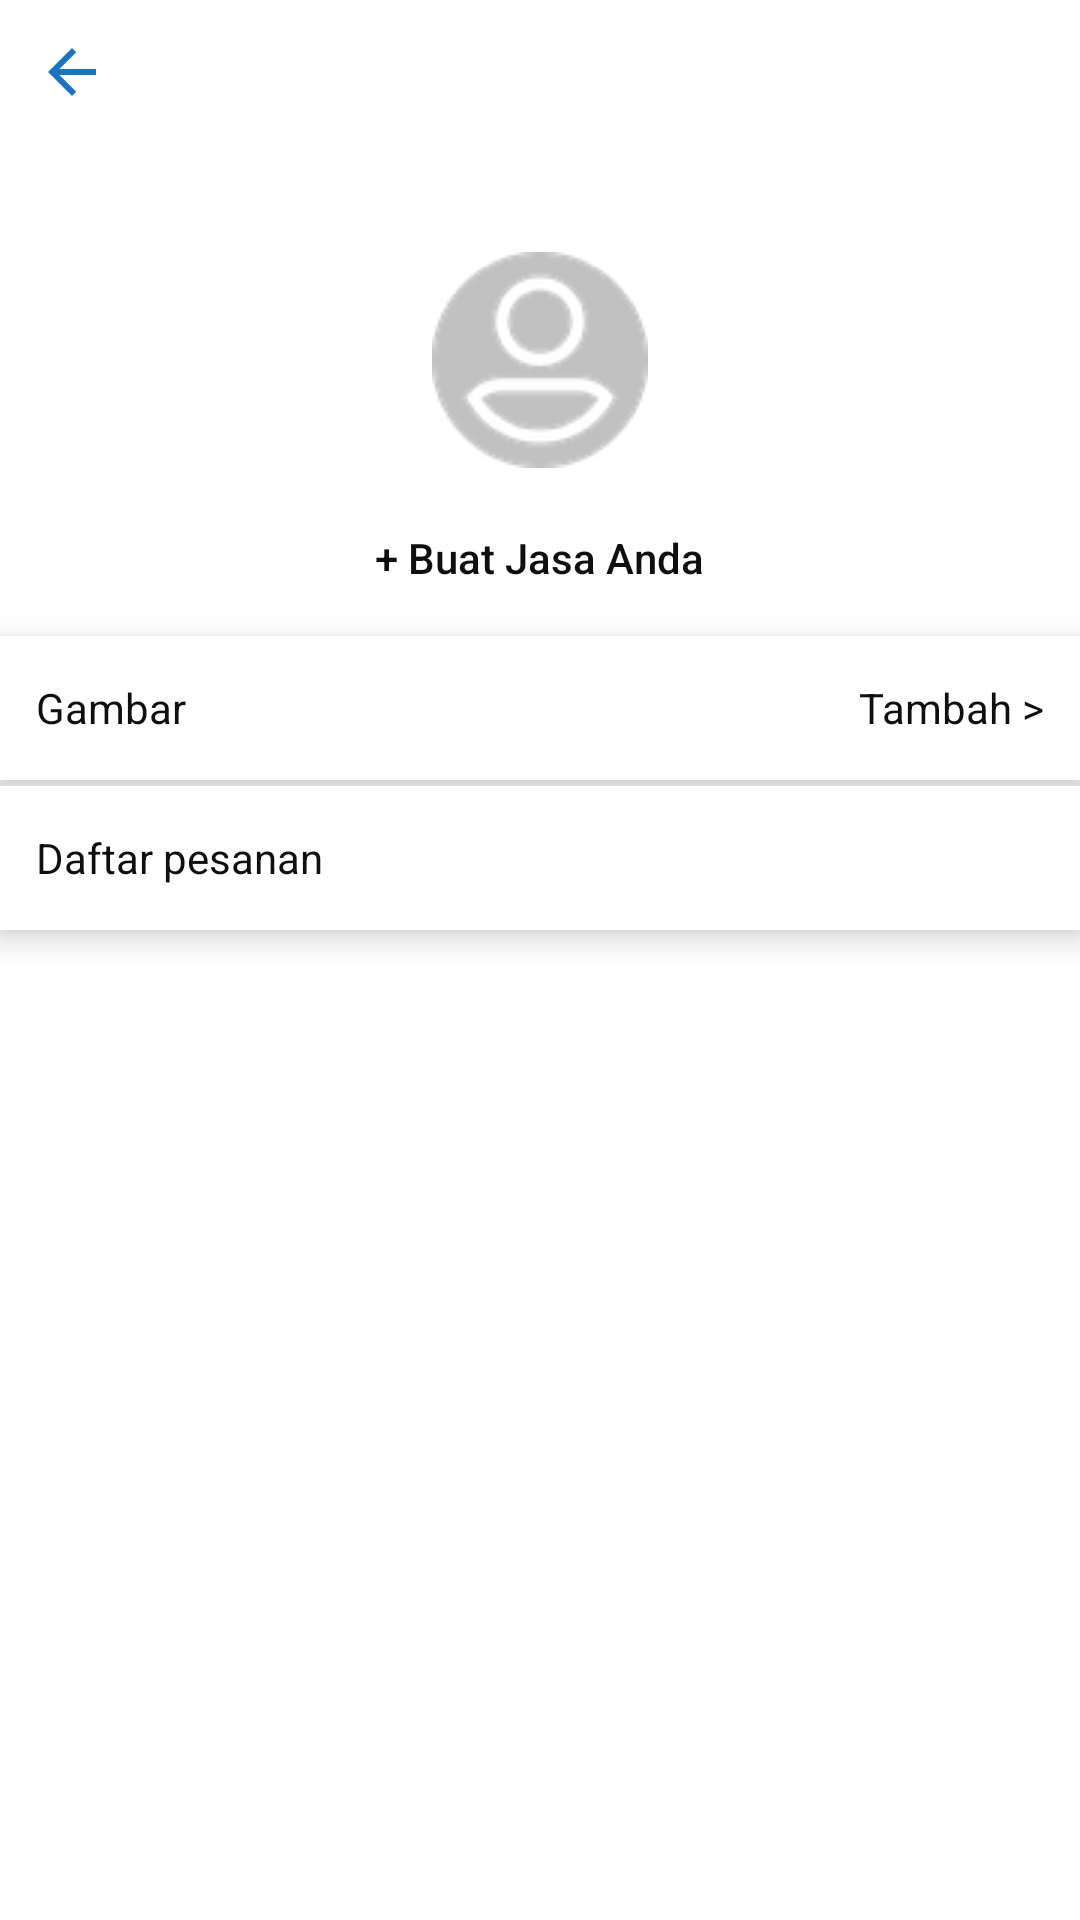

Icons on this 1080×1920 Android screen, each with its box as [left=x1, top=y1, right=x2, bottom=y2]:
arrow back: [left=48, top=48, right=96, bottom=96]
mini photo: [left=432, top=252, right=648, bottom=468]
